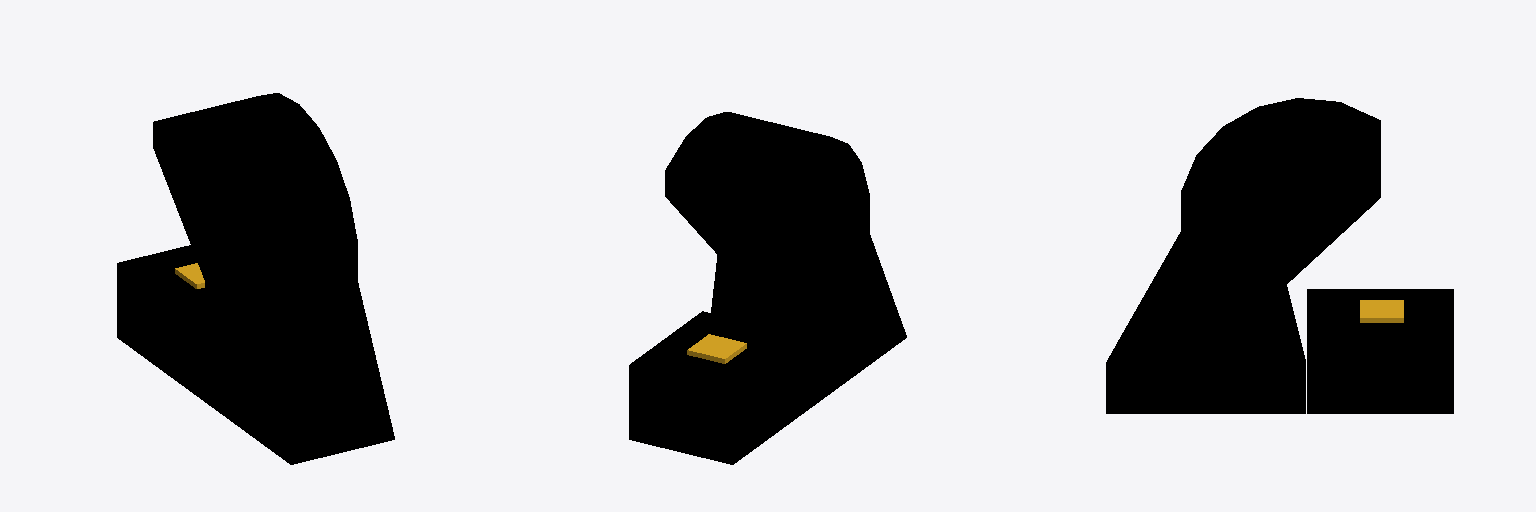
Rendered from light_box_moved.obj.
3 renders of one model, left to right at view 1: azimuth 30°, elevation 25°; view 2: azimuth 150°, elevation 25°; view 3: azimuth 270°, elevation 25°, orthographic.
Parts seen in each view (by area): view 1: Light, Stand; view 2: Light, Stand, Light_Source, Target; view 3: Light, Stand, Target.
Part boxes in pixels (left/top/right/bottom): Light: left=153, top=93, right=394, bottom=464; Stand: left=117, top=245, right=204, bottom=391; Light: left=665, top=112, right=906, bottom=410; Stand: left=629, top=311, right=806, bottom=464; Light_Source: left=667, top=197, right=820, bottom=279; Target: left=687, top=334, right=746, bottom=363; Light: left=1106, top=98, right=1380, bottom=413; Stand: left=1307, top=289, right=1453, bottom=413; Target: left=1360, top=300, right=1403, bottom=322.
Size of the model in its own units: 0.22 by 0.5343 by 0.6369.